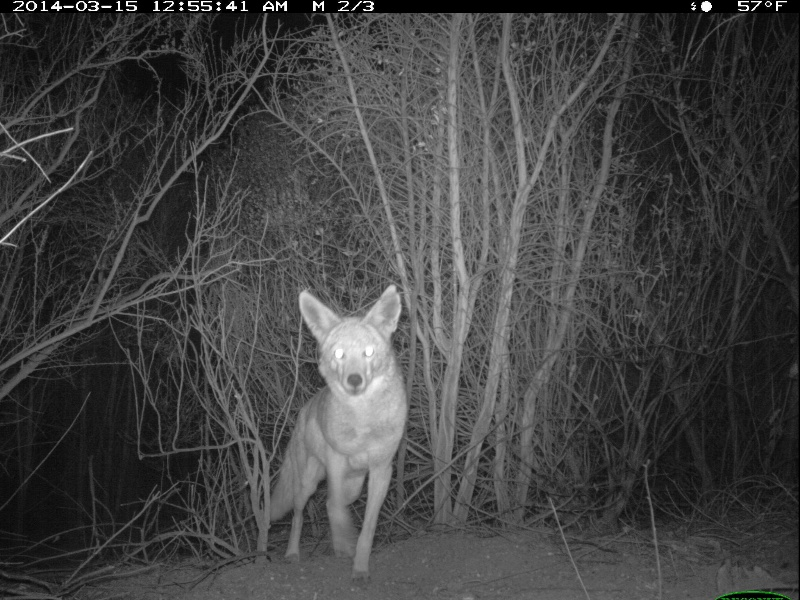coyote: (254, 280, 414, 590)
